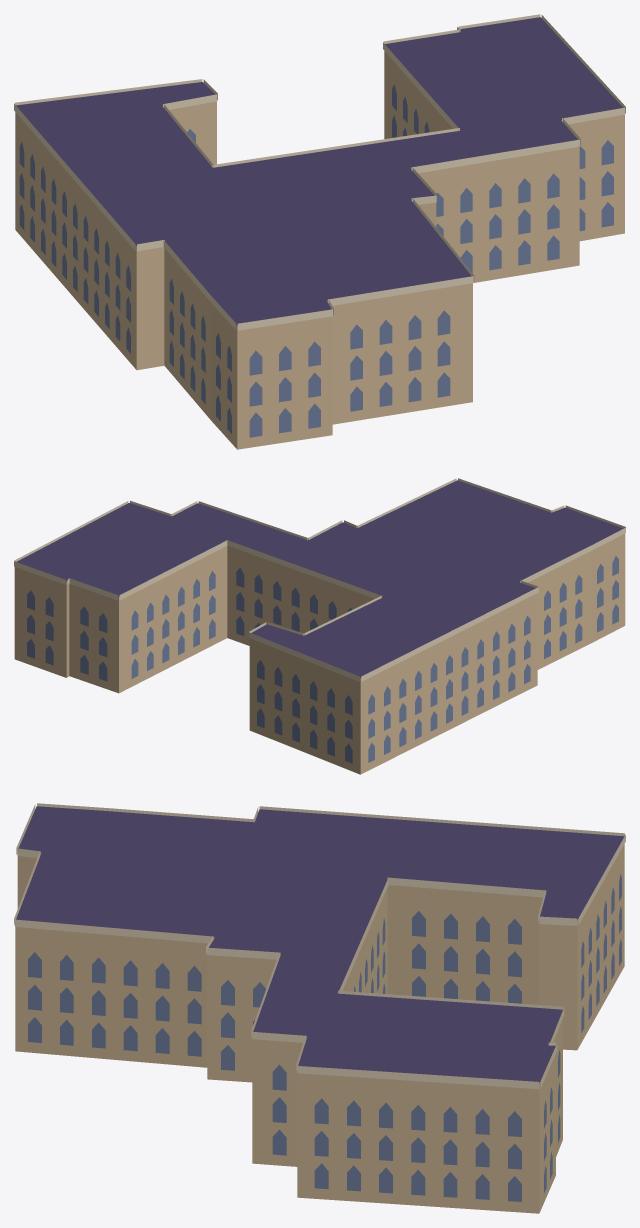
File: core-lawson-hall-day.glb
3 views of the same model, one above another, from view 1: azimuth 30°, elevation 25°; view 2: azimuth 150°, elevation 25°; view 3: azimuth 270°, elevation 25° (orthographic). The views are drawn at different scales.
Visible parts, largest first — view 1: campus/core-lawson-hall-day-0; view 2: campus/core-lawson-hall-day-0; view 3: campus/core-lawson-hall-day-0.
Part boxes in pixels (x1=…): campus/core-lawson-hall-day-0: x1=14, y1=14, x2=625, y2=449; campus/core-lawson-hall-day-0: x1=14, y1=478, x2=625, y2=774; campus/core-lawson-hall-day-0: x1=14, y1=803, x2=625, y2=1213.
Size of the model in its own units: 60.71 by 13.45 by 56.35.
